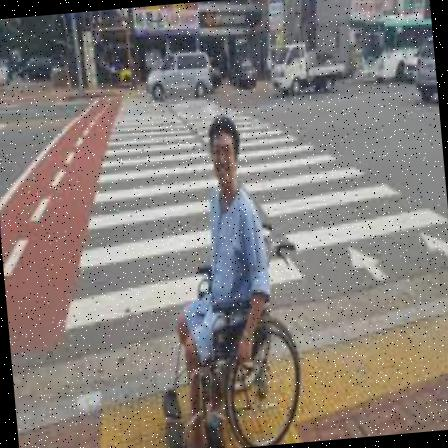wheel: (138, 101, 321, 447)
